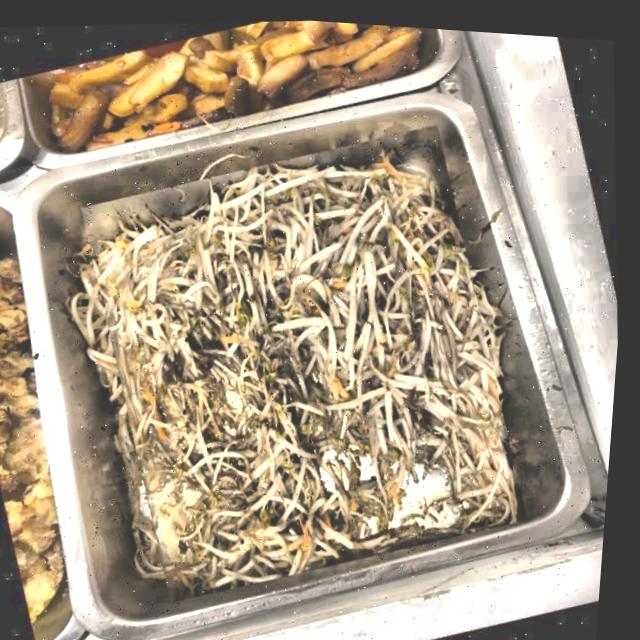Food: (47, 98, 571, 619)
